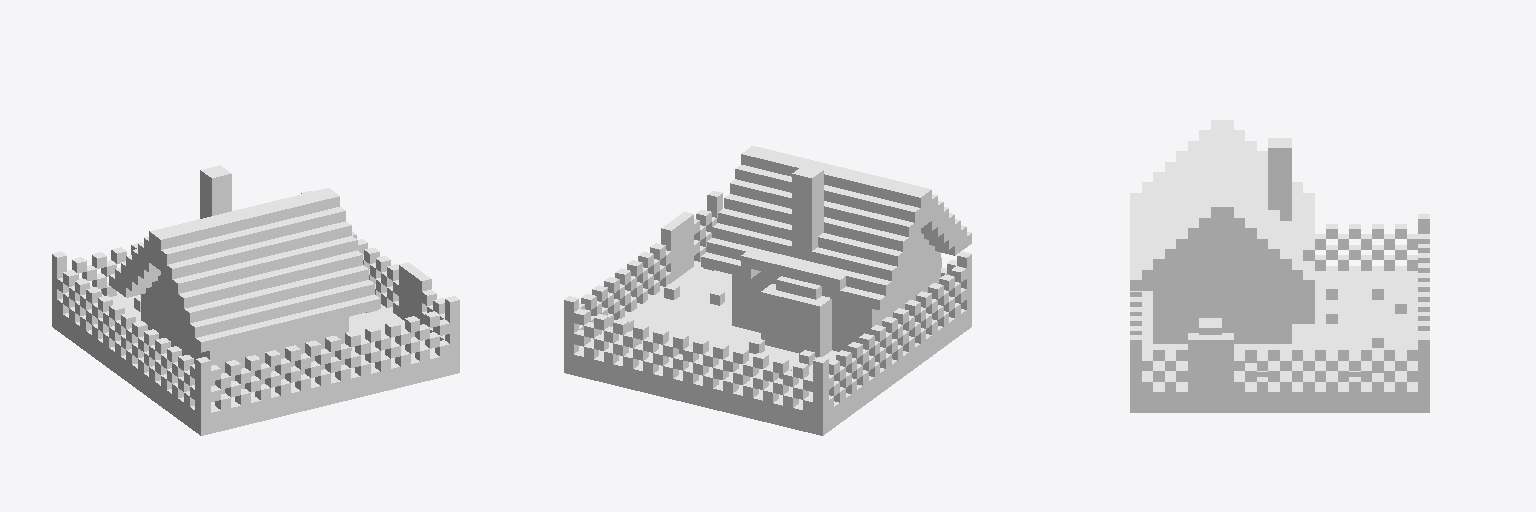
Rendered from house1.2.obj.
3 renders of one model, left to right at view 1: azimuth 30°, elevation 25°; view 2: azimuth 150°, elevation 25°; view 3: azimuth 270°, elevation 25°, orthographic.
Visible parts, largest first — view 1: object 1; view 2: object 1; view 3: object 1.
Boxes of the visible parts, x1,y1,x2,y2 form: object 1: [52, 165, 459, 435]; object 1: [564, 146, 971, 435]; object 1: [1130, 120, 1429, 412].
Bounding box in the file's own units: 2.6 × 1.8 × 2.6.